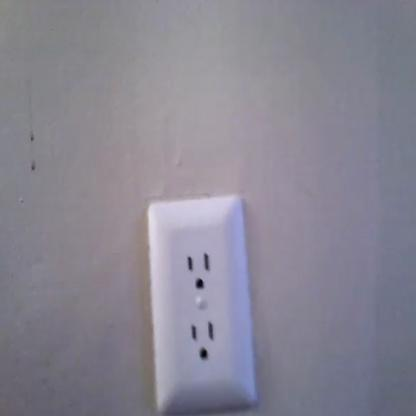OUTLET: (148, 198, 254, 406)
